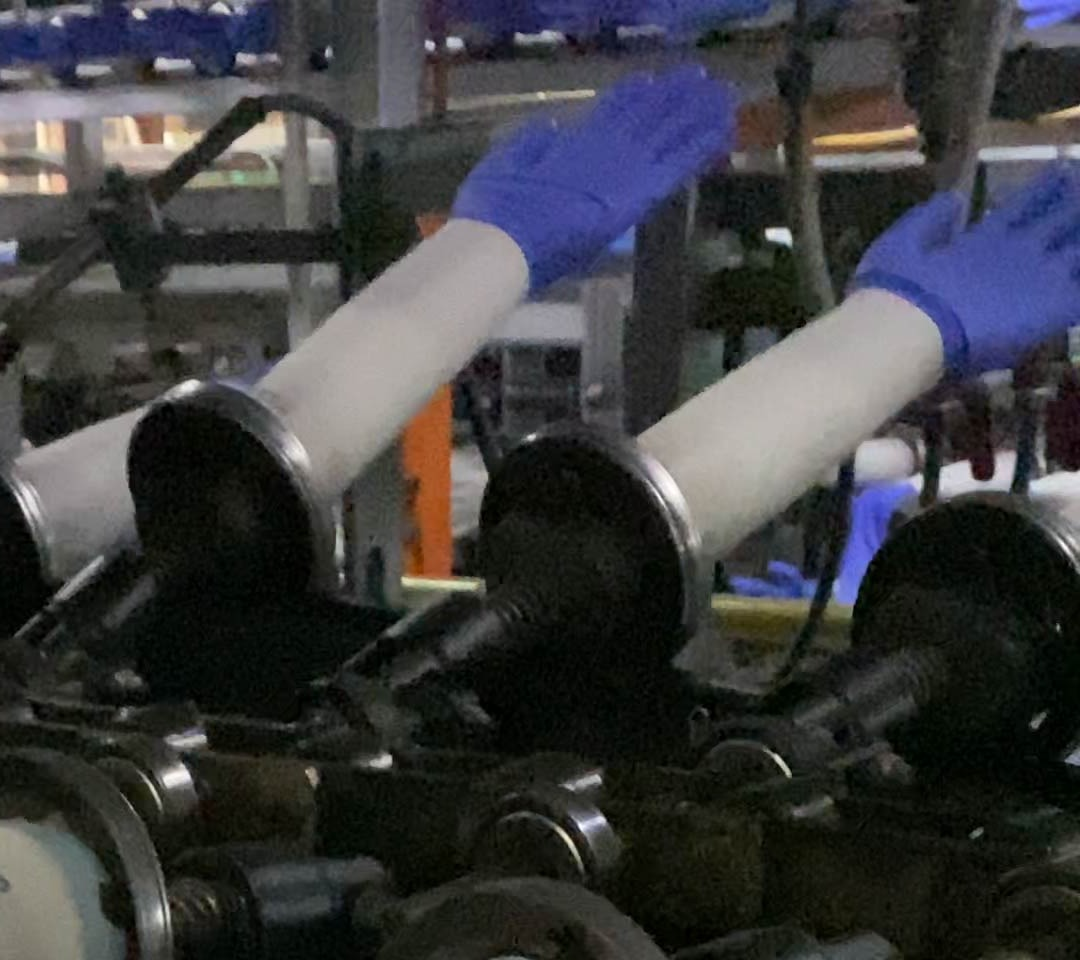glove: (452, 61, 739, 272), (857, 162, 1080, 367)
